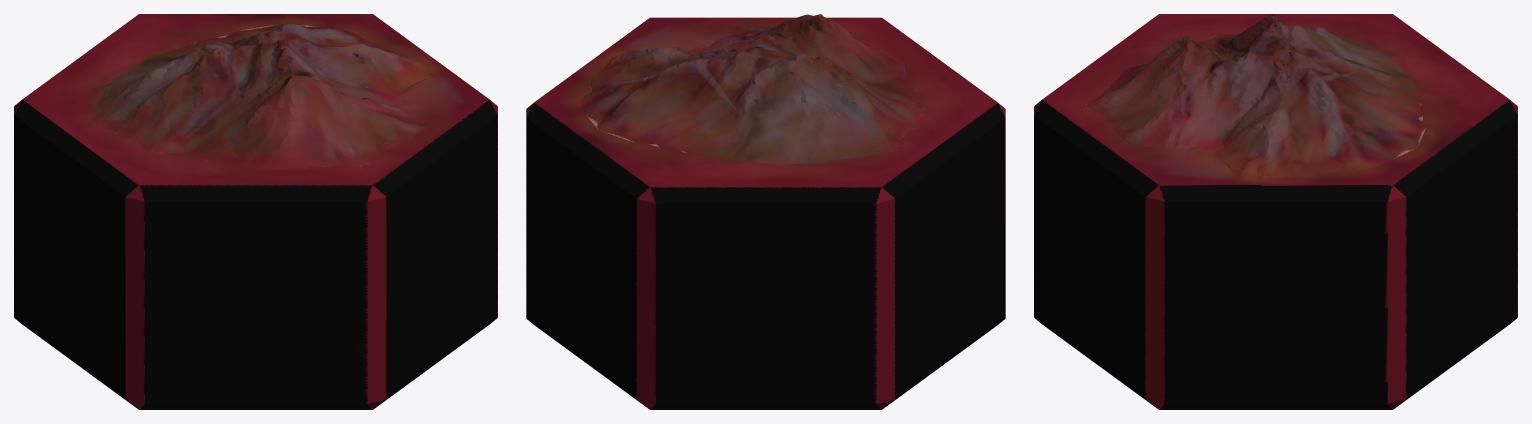
Rendered from Red.02.fbx.
3 views of the same model, side by side, from view 1: azimuth 30°, elevation 25°; view 2: azimuth 150°, elevation 25°; view 3: azimuth 270°, elevation 25° (orthographic).
Visible parts, largest first — view 1: 02.Red; view 2: 02.Red; view 3: 02.Red.
Part boxes in pixels (x1,y1,x2,y2): 02.Red: (14, 14, 497, 409); 02.Red: (526, 14, 1005, 409); 02.Red: (1034, 14, 1517, 409).
Bounding box in the file's own units: 173 × 126 × 195.
Materials: 1 (1 with a texture image).
